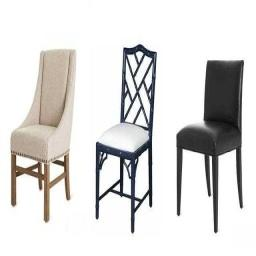Chair: (174, 59, 243, 233), (96, 45, 158, 232), (11, 48, 78, 220)
